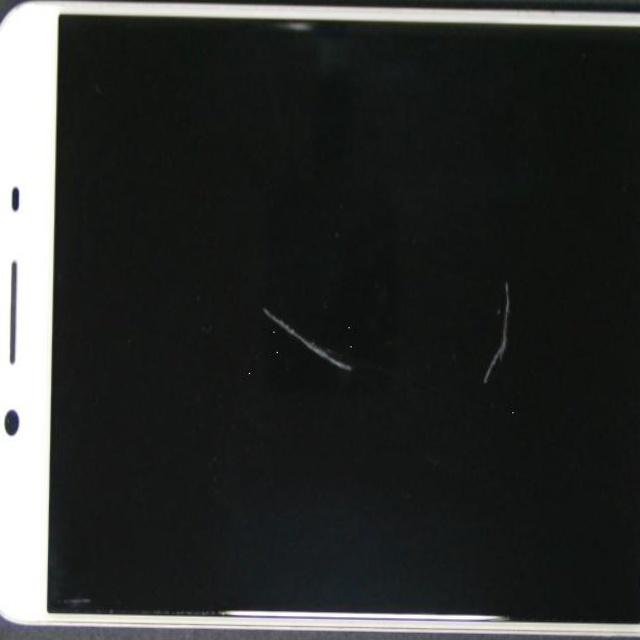scratch: (238, 41, 640, 481), (111, 82, 408, 484)
